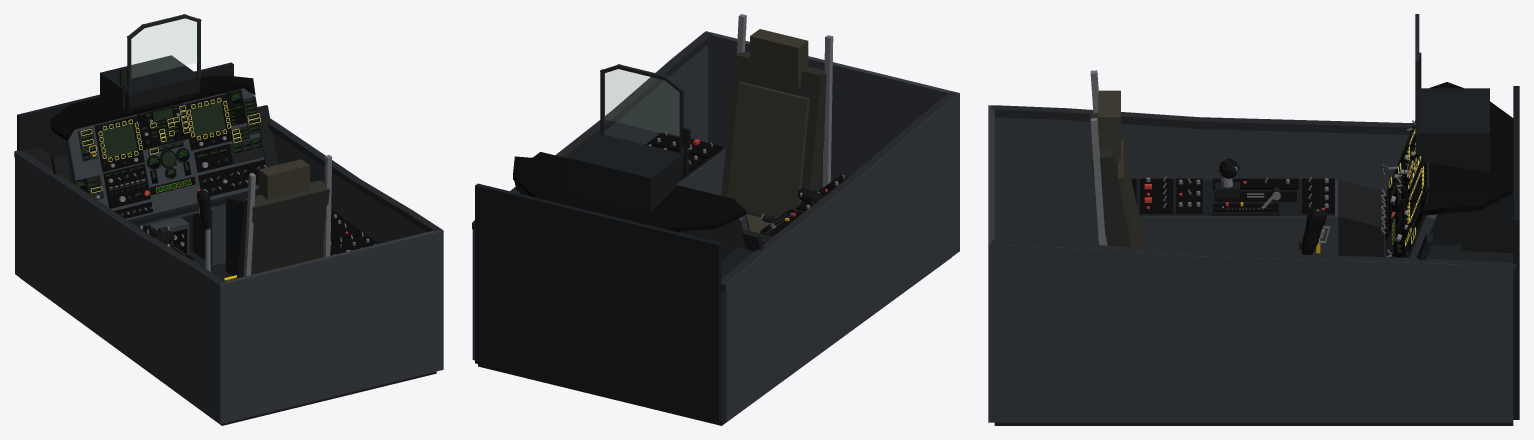
Rendered from cockpit_av8b.glb.
3 views of the same model, side by side, from view 1: azimuth 30°, elevation 25°; view 2: azimuth 150°, elevation 25°; view 3: azimuth 270°, elevation 25° (orthographic). The views are drawn at different scales.
Visible parts, largest first — view 1: panel_grey.005, panel_grey.003, seat_95, panel_grey, panel_grey.004, dark.022, hud_glass_69, dark, black, cushion_97, dark.013, black.012 (+24 smaller); view 2: dark, panel_grey.003, panel_grey.005, cushion_96, dark.022, panel_grey.004, black, seat_95, hud_glass_69, cushion_97, black.001, metal_98 (+11 smaller); view 3: panel_grey.004, panel_grey.003, panel_grey.001, dark.022, dark.001, black, dark.011, frame.002, dark, panel_grey.005, seat_95, dark.009 (+18 smaller).
Part boxes in pixels (x1,y1,x2,y2): panel_grey.005: [217, 229, 443, 424]; panel_grey.003: [15, 152, 217, 421]; seat_95: [236, 180, 329, 278]; panel_grey: [63, 88, 264, 220]; panel_grey.004: [270, 118, 440, 243]; dark.022: [100, 55, 200, 113]; hud_glass_69: [131, 19, 197, 77]; dark: [17, 62, 233, 156]; black: [71, 79, 244, 129]; cushion_97: [258, 159, 309, 200]; dark.013: [226, 190, 258, 275]; black.012: [198, 159, 265, 196]; dark: [475, 183, 721, 422]; panel_grey.003: [721, 95, 956, 421]; panel_grey.005: [703, 31, 959, 252]; cushion_96: [727, 82, 809, 218]; dark.022: [569, 135, 683, 212]; panel_grey.004: [472, 33, 707, 360]; black: [536, 152, 732, 228]; seat_95: [721, 51, 826, 220]; hud_glass_69: [604, 69, 679, 136]; cushion_97: [750, 29, 808, 87]; black.001: [664, 199, 745, 231]; metal_98: [822, 35, 833, 187]; panel_grey.004: [994, 244, 1513, 422]; panel_grey.003: [994, 105, 1430, 244]; panel_grey.001: [1139, 180, 1338, 255]; dark.022: [1416, 88, 1489, 171]; dark.001: [1430, 193, 1513, 253]; black: [1429, 110, 1513, 193]; dark.011: [1338, 180, 1384, 256]; frame.002: [1196, 117, 1411, 134]; dark: [1513, 86, 1519, 419]; panel_grey.005: [988, 105, 994, 422]; seat_95: [1090, 112, 1131, 247]; dark.009: [994, 422, 1513, 425].
Size of the model in its own units: 1 by 1.11 by 1.61.
Materials: 25 (6 with a texture image).
